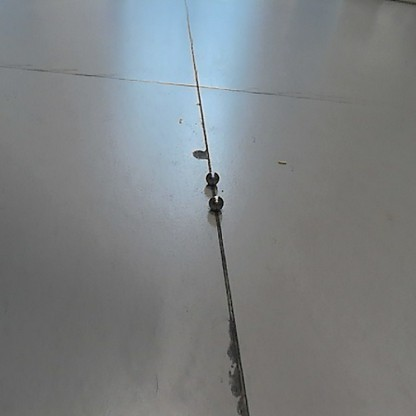ironball: (206, 191, 226, 216), (203, 166, 222, 188)
